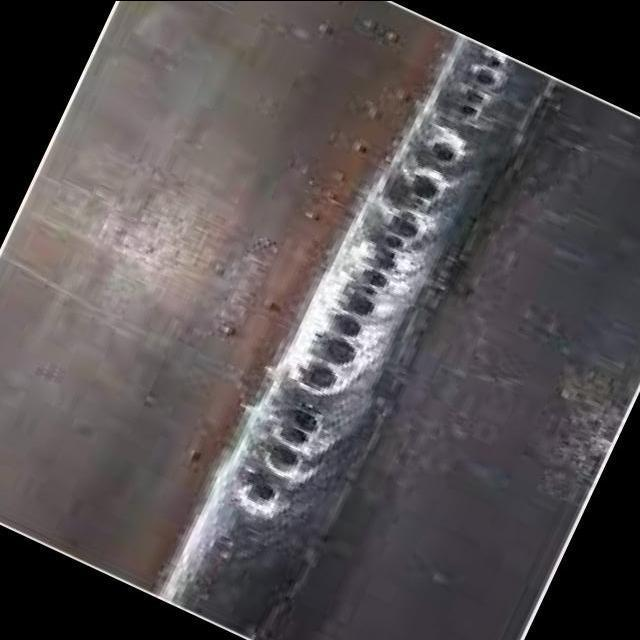defect: (291, 205, 432, 398), (236, 400, 330, 513), (454, 51, 510, 122), (403, 158, 450, 199), (424, 130, 475, 167)
